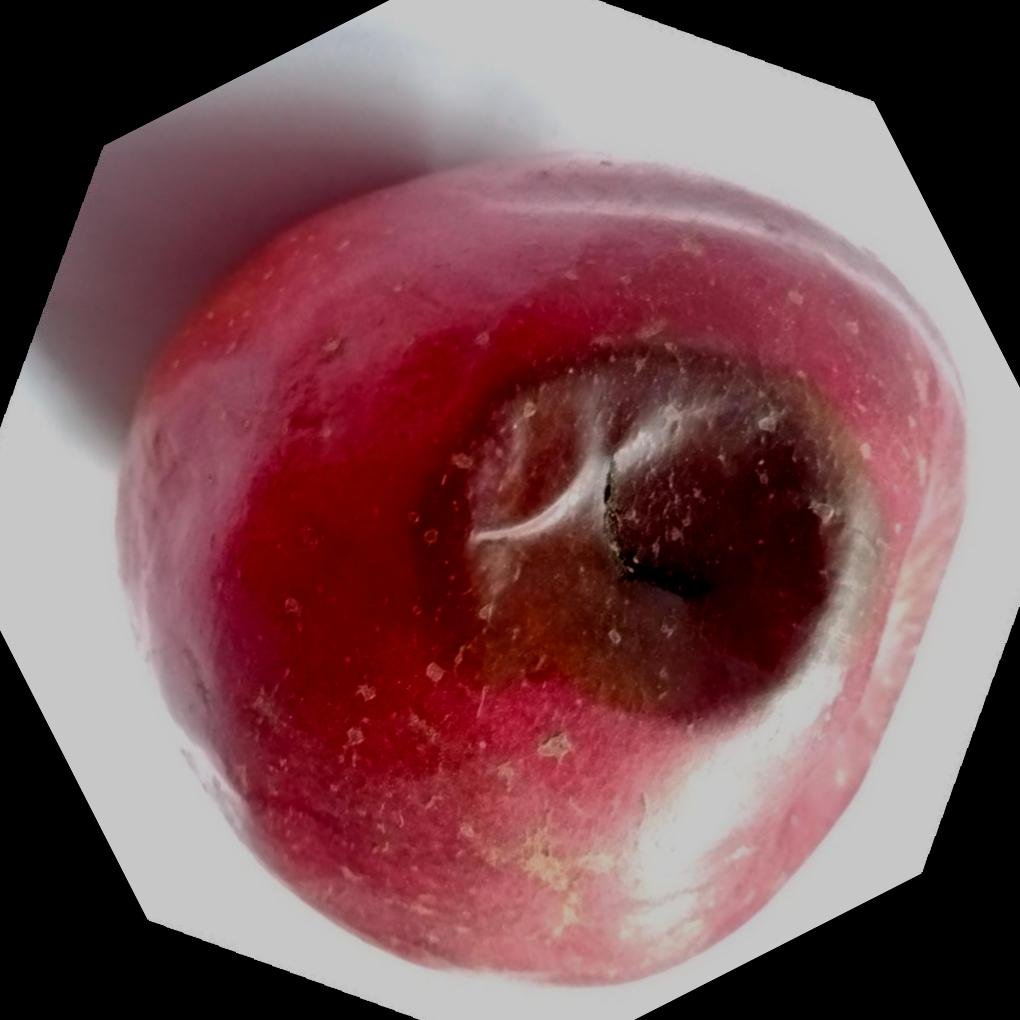FreshOrange: (106, 143, 977, 997)
